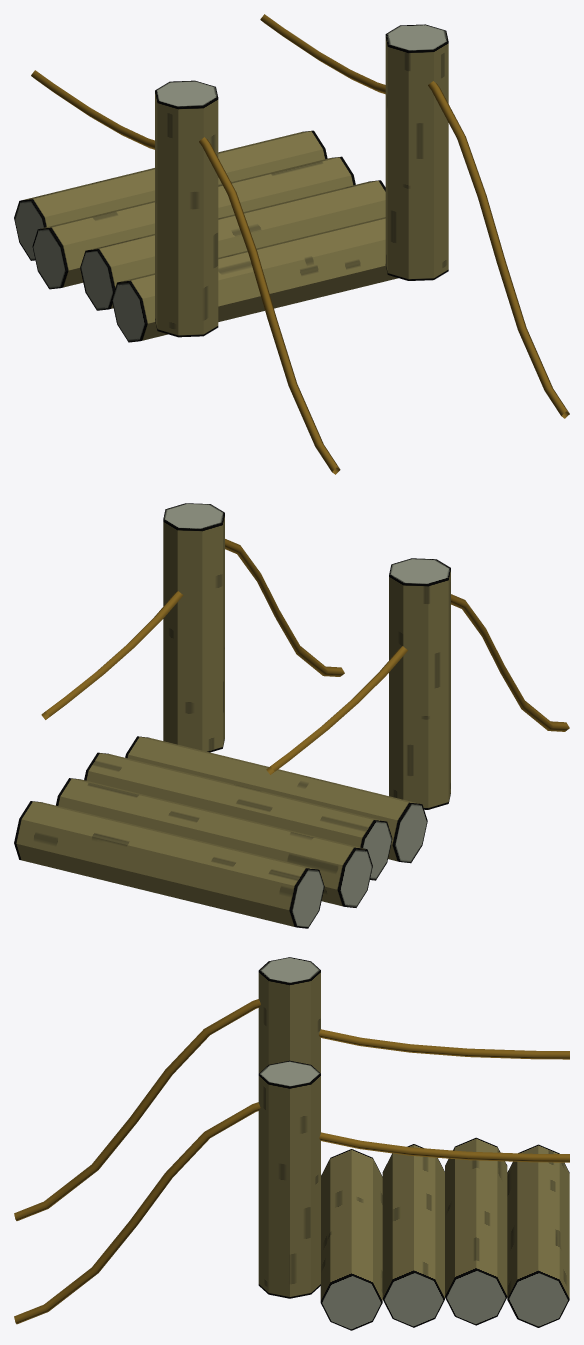
File: Bridge_Extreme_V2.glb
The picture shows the model from 3 angles, top to bottom: view 1: azimuth 30°, elevation 25°; view 2: azimuth 150°, elevation 25°; view 3: azimuth 270°, elevation 25°; orthographic projection. The views are drawn at different scales.
Visible parts, largest first — view 1: Bridge_Extreme; view 2: Bridge_Extreme; view 3: Bridge_Extreme.
Part boxes in pixels (x1,y1,x2,y2): Bridge_Extreme: [14, 14, 569, 474]; Bridge_Extreme: [14, 503, 569, 928]; Bridge_Extreme: [14, 957, 569, 1330].
Bounding box in the file's own units: 2.04 × 1.78 × 3.57.
Materials: 1 (1 with a texture image).
